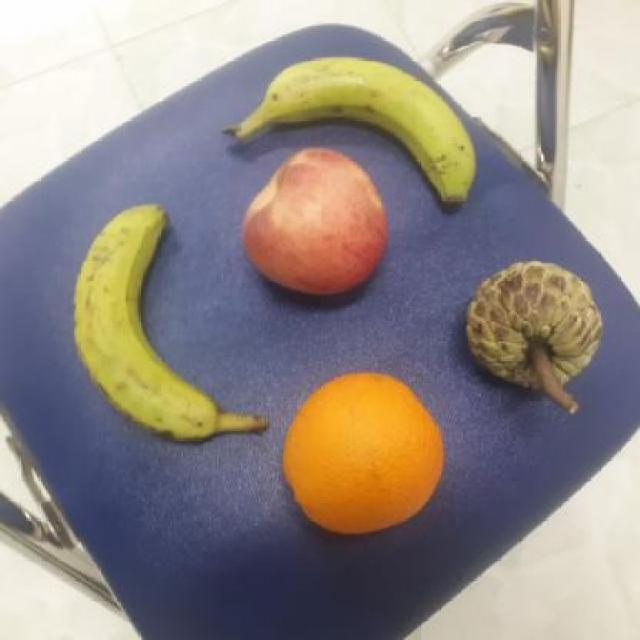apple: (233, 144, 402, 308)
banana: (68, 198, 227, 452), (227, 54, 487, 208)
oren: (273, 370, 453, 541)
sugar apple: (462, 252, 603, 399)
